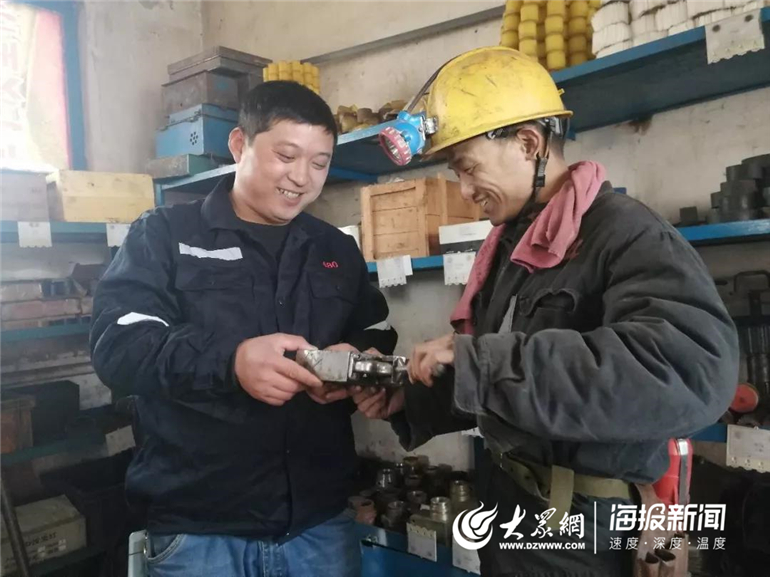helmet: (405, 51, 599, 221)
